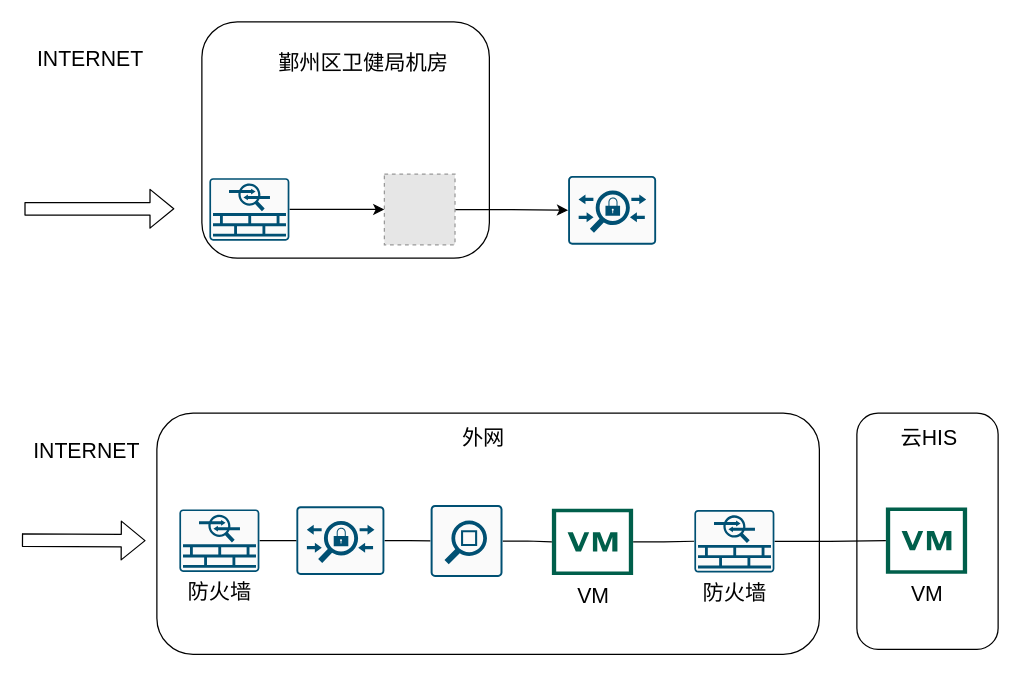
Image size: 1020x676. Some labels were removed from this diagram. Grey dashed boxes stand in for pictures. The box of each missing label's shape, as (x1, y1, x2, y2) in pixels:
ACG: (429, 504, 502, 577)
WAF: (295, 505, 384, 575)
